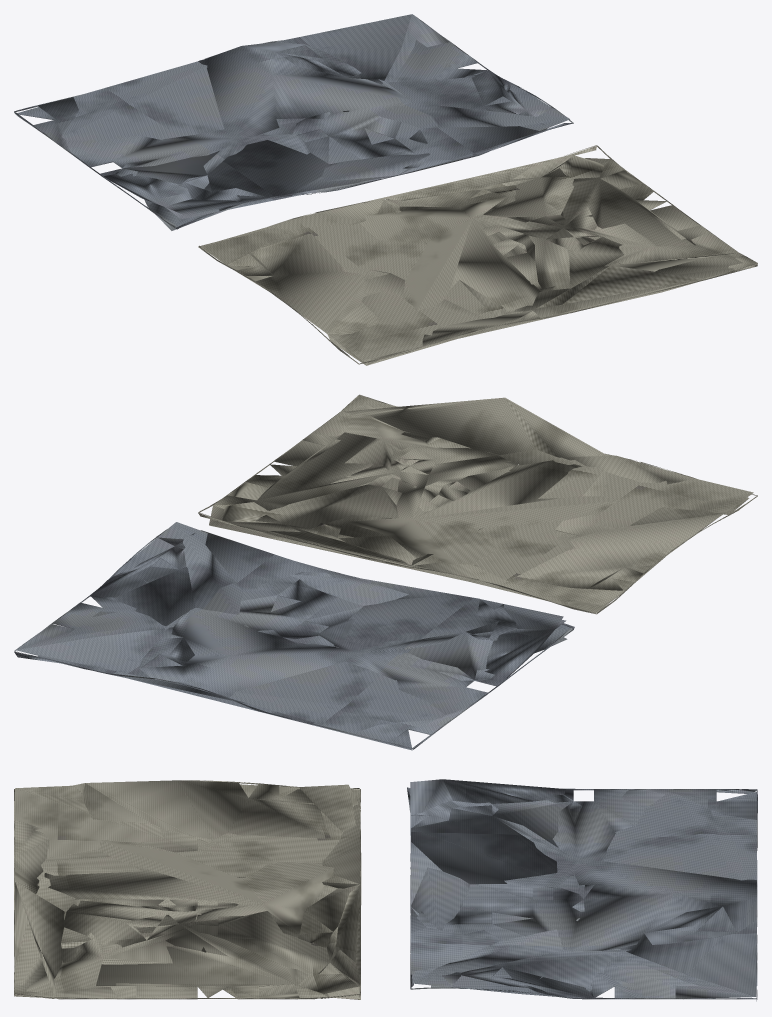
Rendered from CL06_TornBedSheets.glb.
3 views of the same model, one above another, from view 1: azimuth 30°, elevation 25°; view 2: azimuth 150°, elevation 25°; view 3: azimuth 270°, elevation 25° (orthographic). The views are drawn at different scales.
Parts seen in each view (by area): view 1: CL06_TornBedSheets; view 2: CL06_TornBedSheets; view 3: CL06_TornBedSheets.
Boxes of the visible parts, left/top/right/bottom form: CL06_TornBedSheets: left=14, top=14, right=757, bottom=365; CL06_TornBedSheets: left=14, top=394, right=757, bottom=750; CL06_TornBedSheets: left=14, top=779, right=757, bottom=1001.
Bounding box in the file's own units: 1.33 × 0.1395 × 2.
2 materials, 2 textured.
